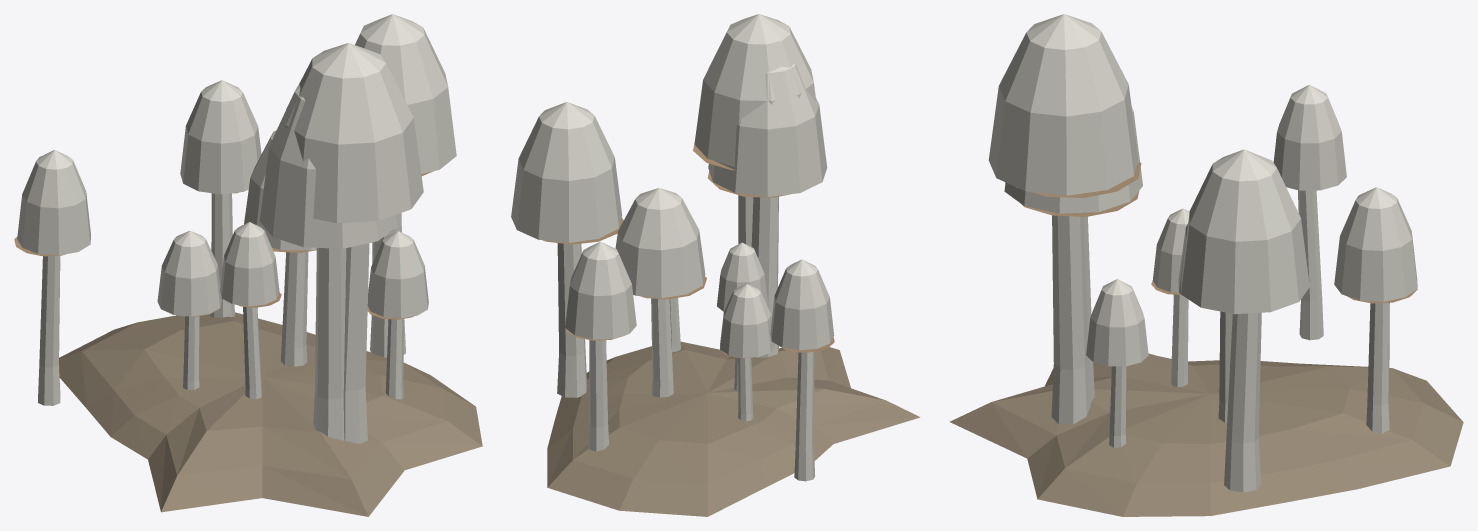
File: dense-temperate-forest-flora-ink-cap-cluster-6dd143fa__28410.glb
The picture shows the model from 3 angles, left to right: view 1: azimuth 30°, elevation 25°; view 2: azimuth 150°, elevation 25°; view 3: azimuth 270°, elevation 25°; orthographic projection. The views are drawn at different scales.
Parts seen in each view (by area): view 1: ink-cap-cluster; view 2: ink-cap-cluster; view 3: ink-cap-cluster.
Boxes of the visible parts, left/top/right/bottom form: ink-cap-cluster: left=14, top=14, right=482, bottom=516; ink-cap-cluster: left=511, top=14, right=920, bottom=516; ink-cap-cluster: left=949, top=14, right=1463, bottom=516.
Size of the model in its own units: 0.274 by 0.2798 by 0.3061.
